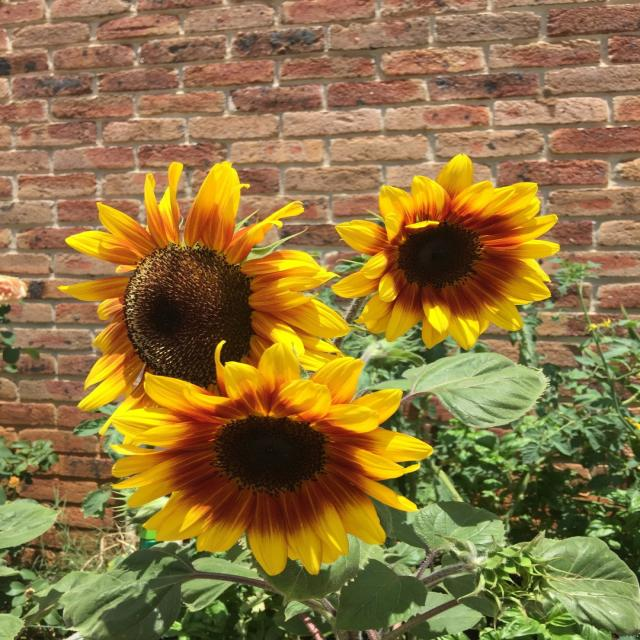sunflower: (49, 153, 382, 427), (86, 342, 442, 573), (314, 154, 575, 358)
